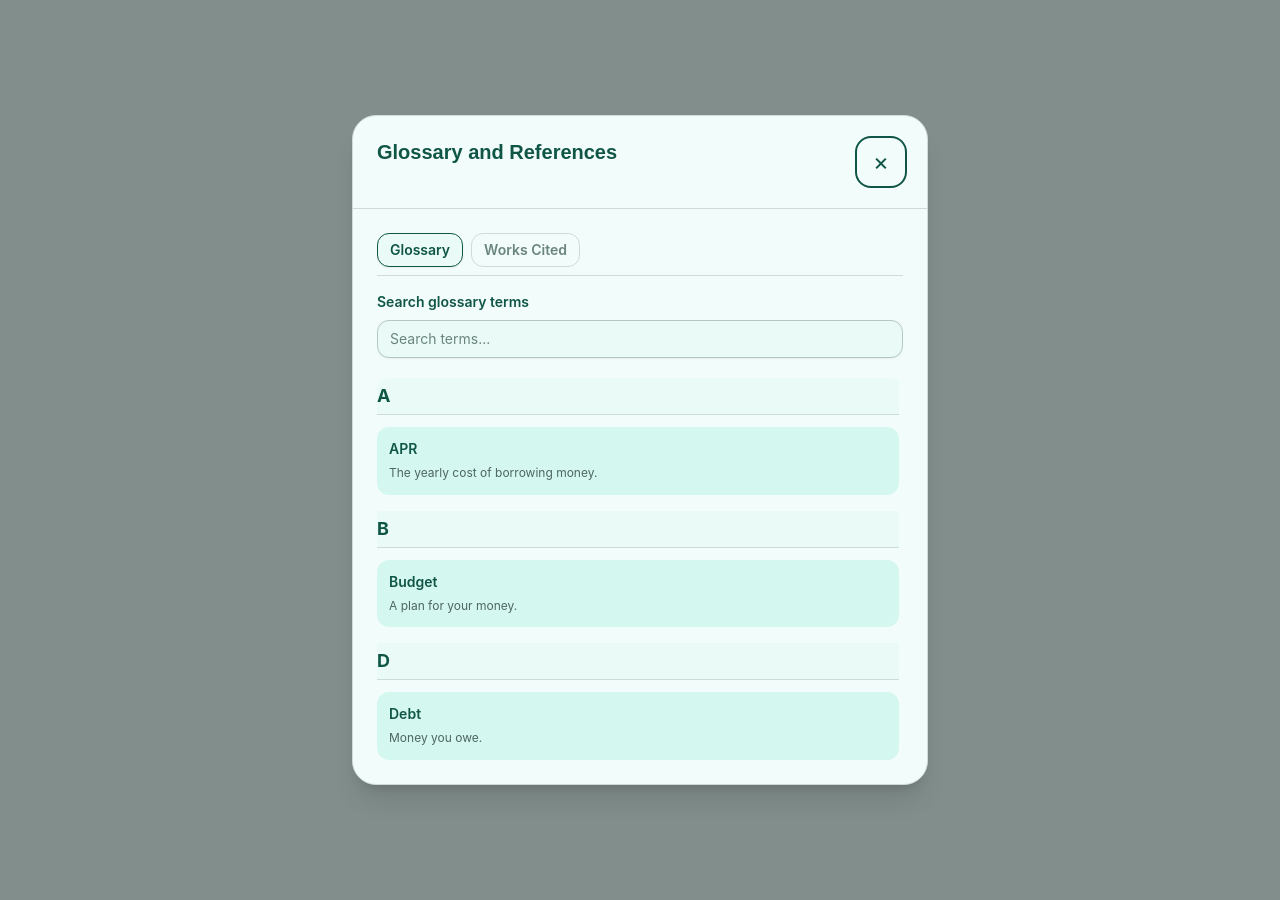
GlossaryModal › labels the search input and filters the glossary
Type "Budget" into the field labelled "Search glossary terms" at [640, 339], box [377, 320, 903, 358]
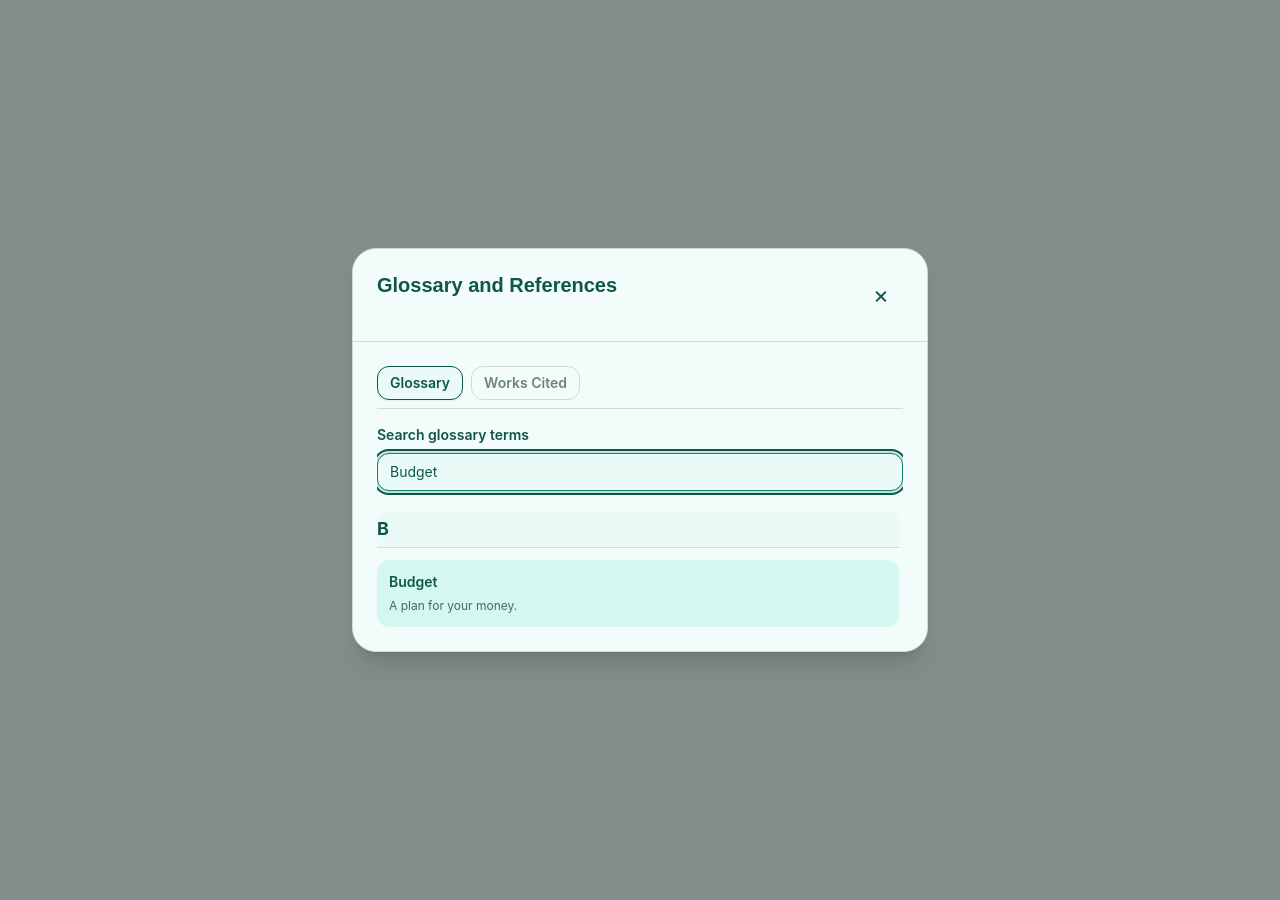
Check: the text "Budget" is shown, box [389, 573, 438, 590]
Check: the text "Debt" is gone
